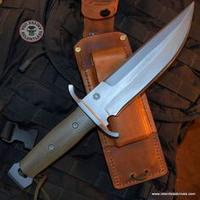knife: (10, 2, 194, 186)
